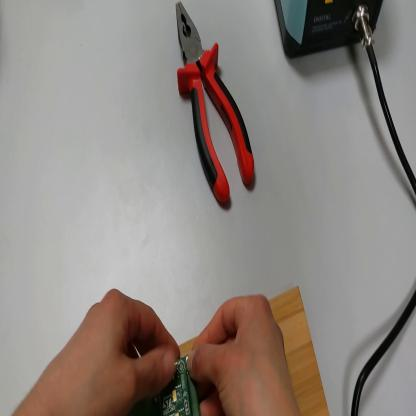hand: (40, 289, 178, 415), (192, 295, 297, 413)
low voltage board: (133, 357, 202, 416)
pliers: (171, 2, 258, 211)
welder station: (275, 2, 383, 62)
working area: (180, 290, 330, 415)
